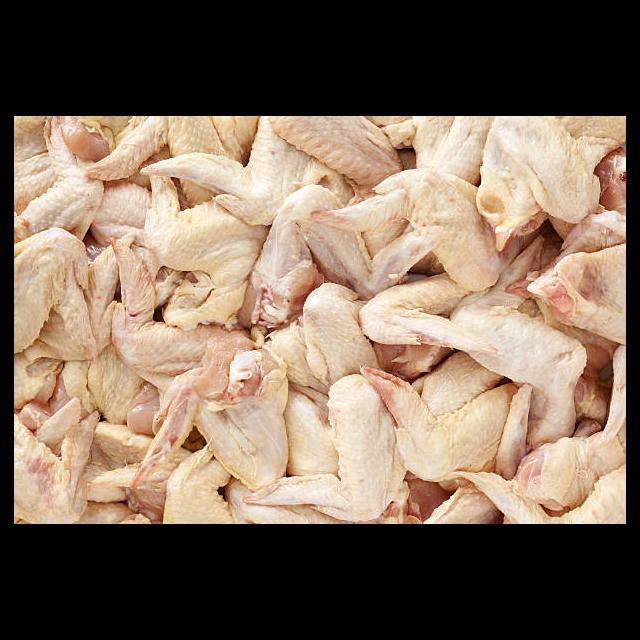chicken: (444, 236, 584, 437), (251, 186, 439, 325), (243, 374, 410, 520), (241, 370, 402, 521), (314, 167, 500, 292), (355, 362, 548, 481), (474, 117, 625, 253), (137, 167, 266, 326), (529, 252, 626, 443), (140, 117, 307, 222), (184, 345, 289, 497), (112, 301, 255, 379), (15, 225, 99, 355), (15, 117, 103, 241), (512, 436, 626, 506)
